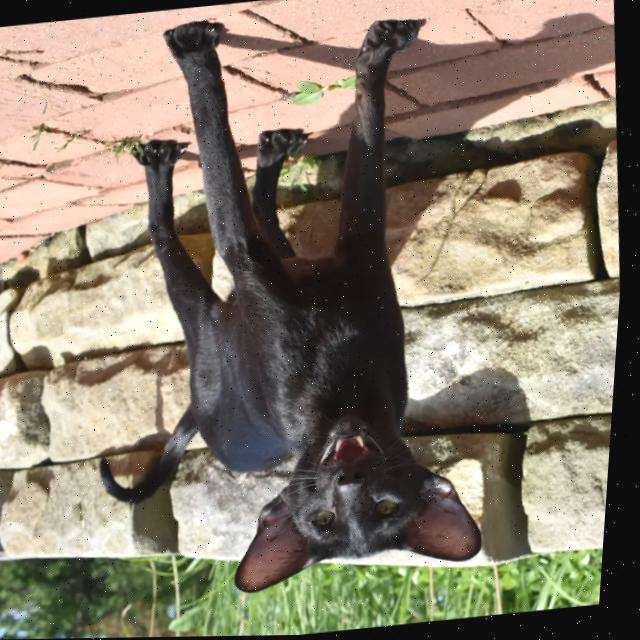Oriental: (56, 0, 525, 612)
